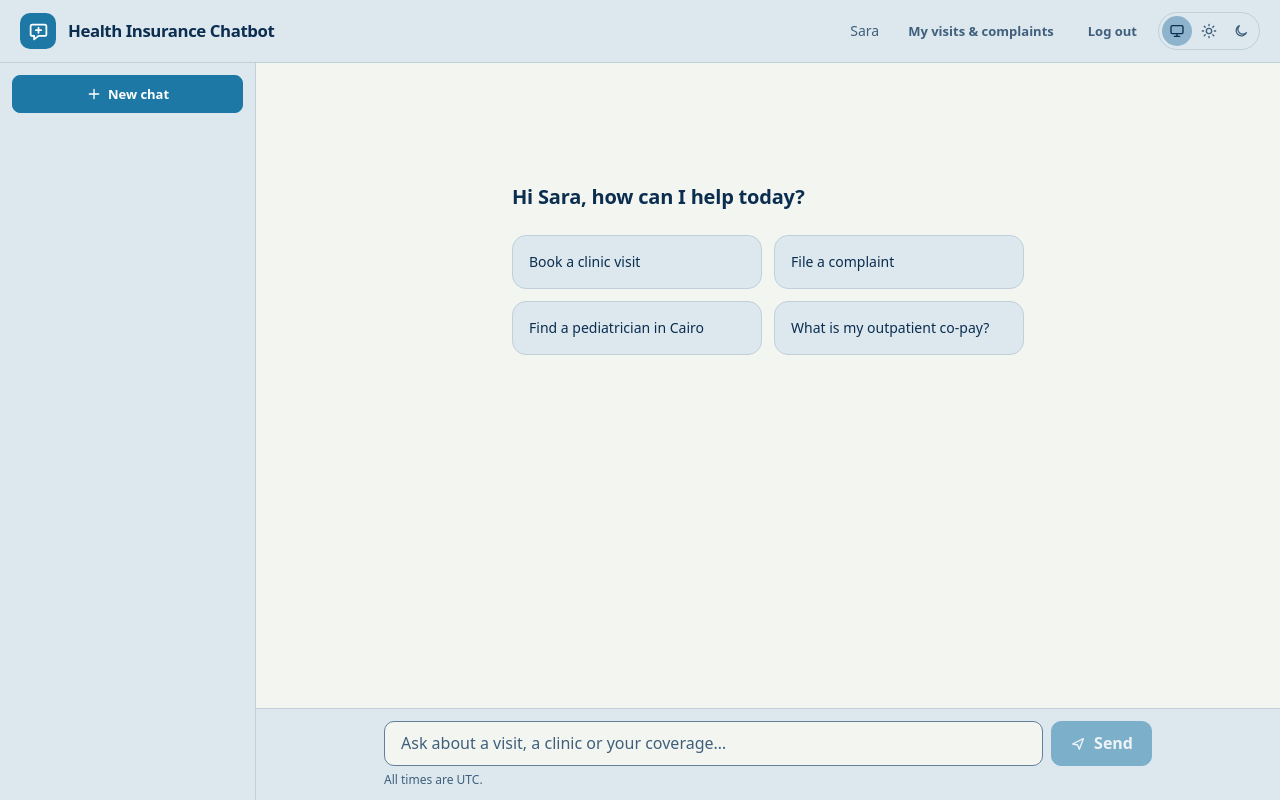
Test: ChatPage › F1: a starter card sends its fixed text as the first message
What coordinates should you click on to do the following:
click the button with test id "starter-card" showing "Book a clinic visit"
I would click on:
 (637, 262)
Its box is [512, 235, 762, 289].
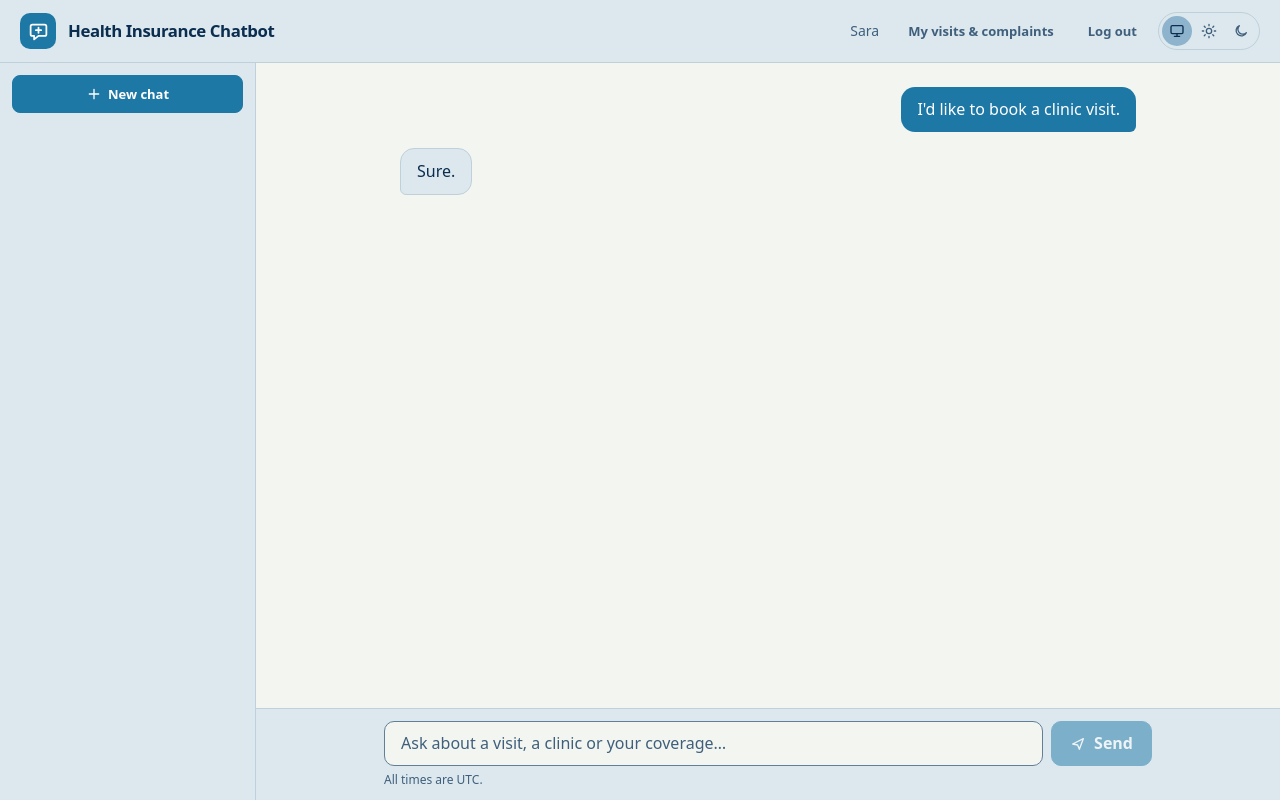
expect the text "I'd like to book a clinic visit." is shown: met, box [917, 97, 1120, 122]
expect the text "Sure." is shown: met, box [417, 159, 455, 184]
